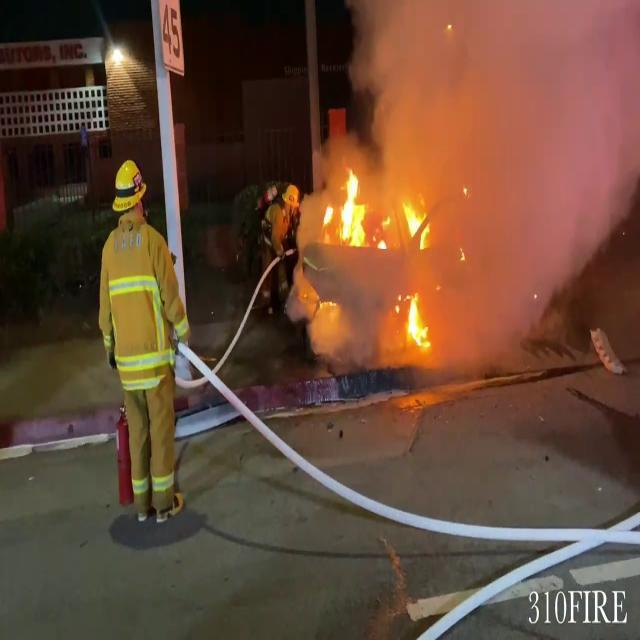Fire: (322, 167, 448, 260), (402, 291, 434, 352)
Smoke: (328, 0, 639, 348)
